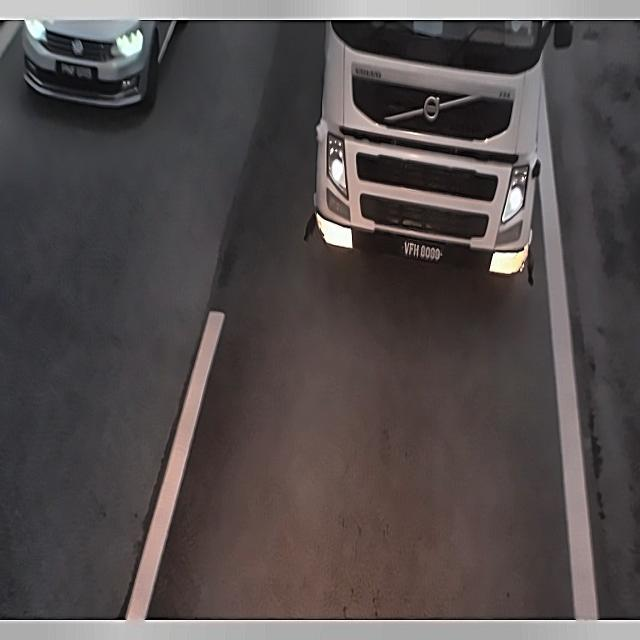car: (397, 231, 446, 274), (52, 55, 98, 90)
